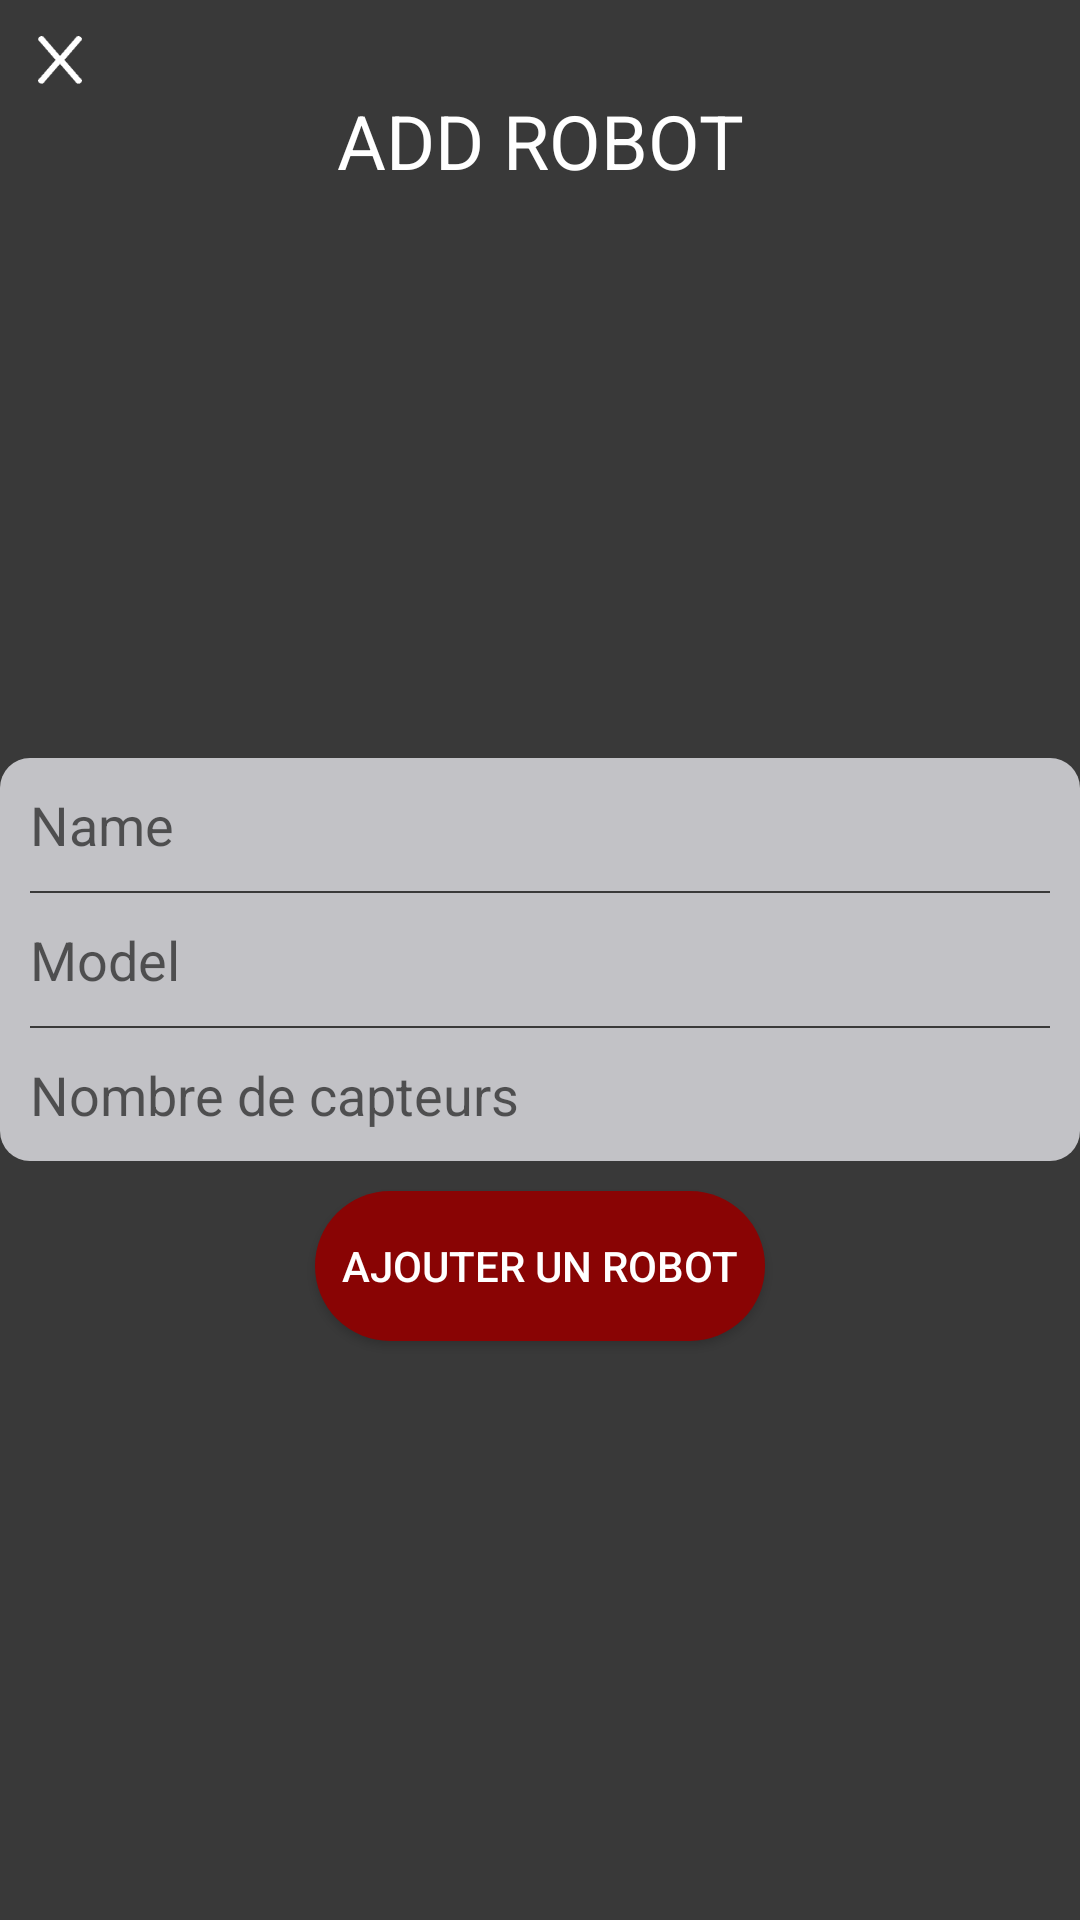

Screen size 1080*1920. Icon name, then its box in pixels as bbox=[x1, y1, x2, y2]:
close: bbox=[38, 36, 82, 84]
